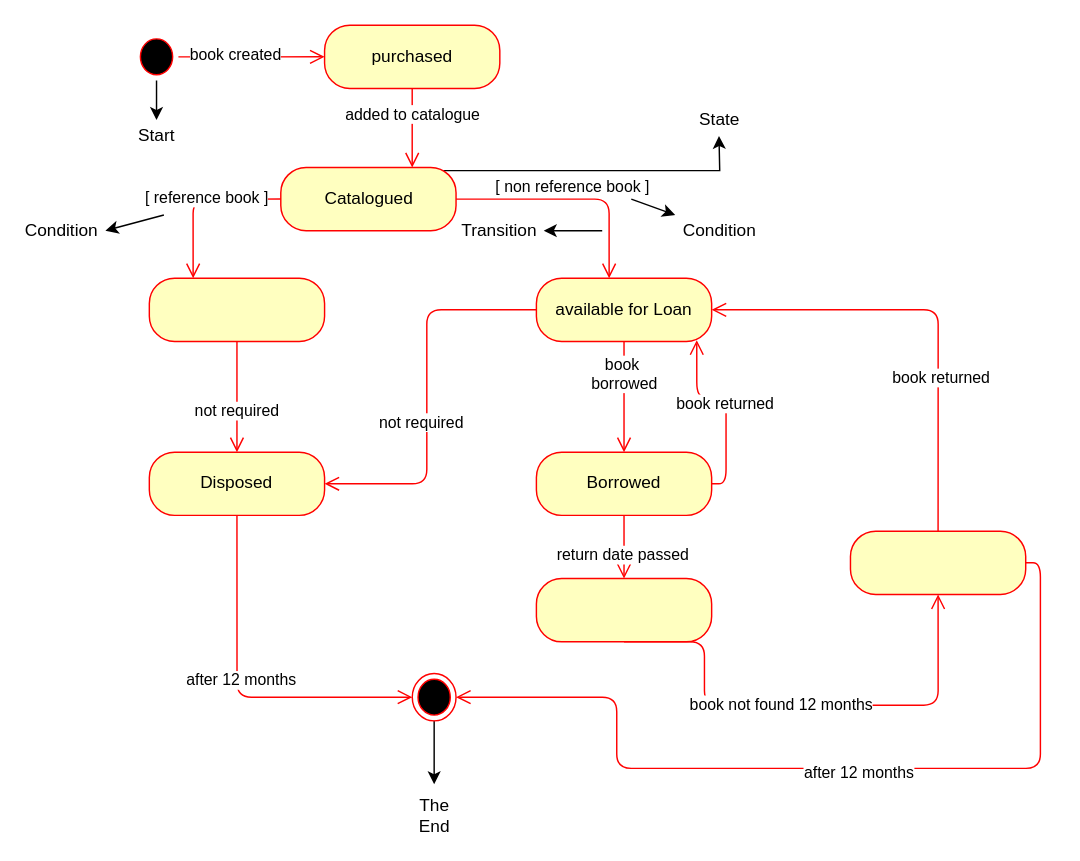
The diagram is 1080 pixels wide and 861 high, and some of its shapes have lost their labels. Each missing label, with the centre of its shape:
"Lost" belongs at [937,562].
"Not for loan" belongs at [236,309].
"Overdue" belongs at [623,609].
